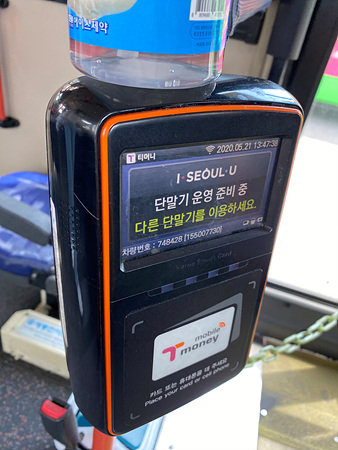terminal: (44, 74, 293, 419)
